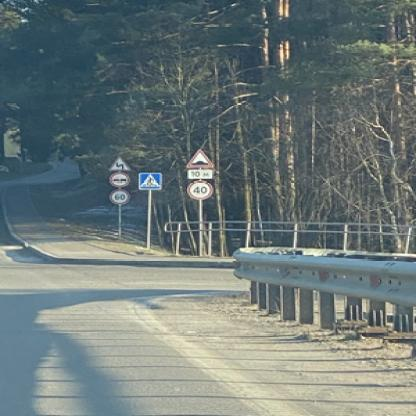Speed Limit 40: (188, 180, 214, 200)
Speed Limit 60: (110, 190, 128, 204)
